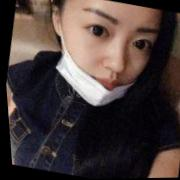WRONG: (48, 1, 168, 116)
